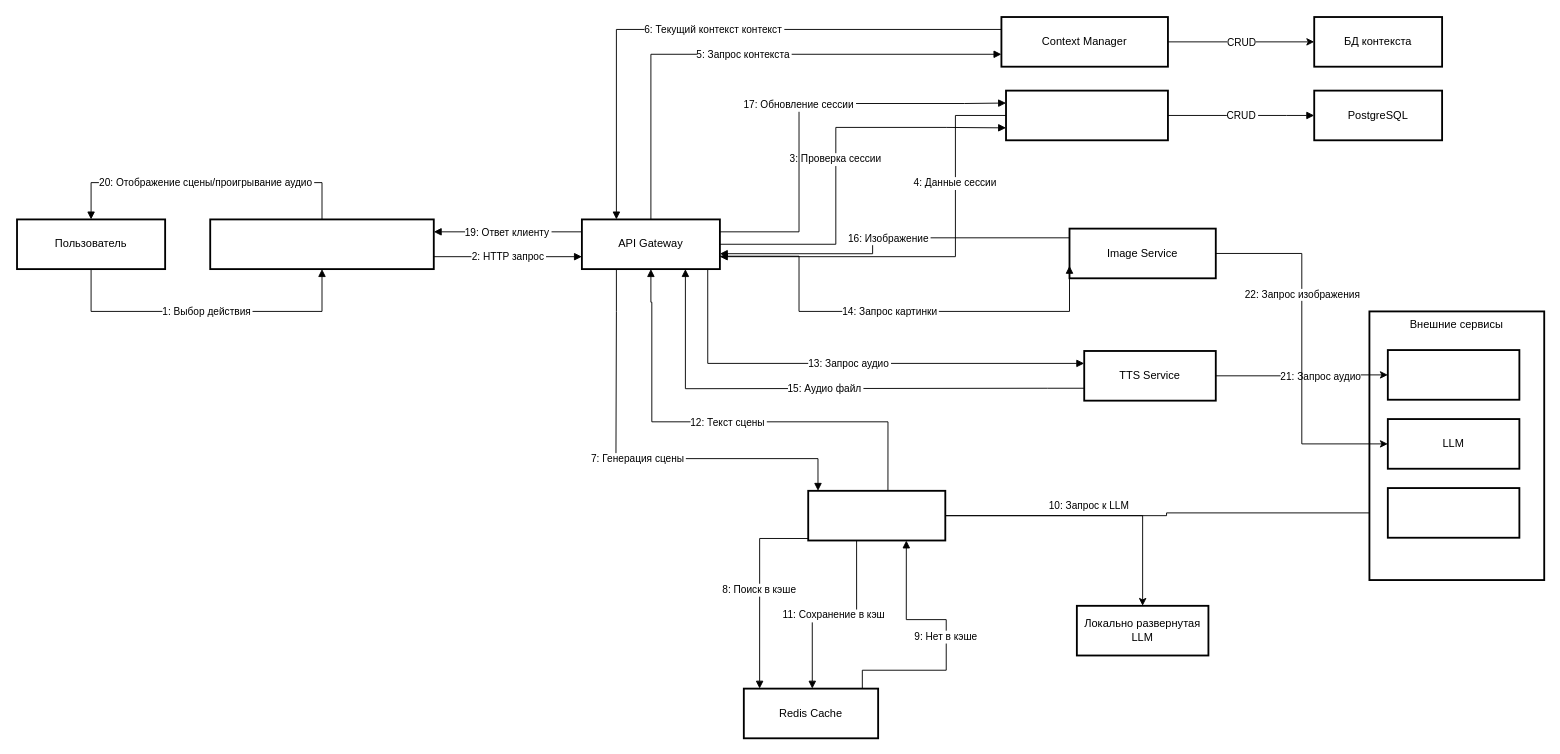
Some shapes in this 1560 by 754 pixel diagram are drawn without their labels. The centre of each missing label's shape, as x and y in pixels:
"Session Manager" goes at [1086,115].
"Story Engine" goes at [876,515].
"TTS" goes at [1453,374].
"Генерация картинок" goes at [1453,512].
"Клиентское приложение" goes at [321,244].
